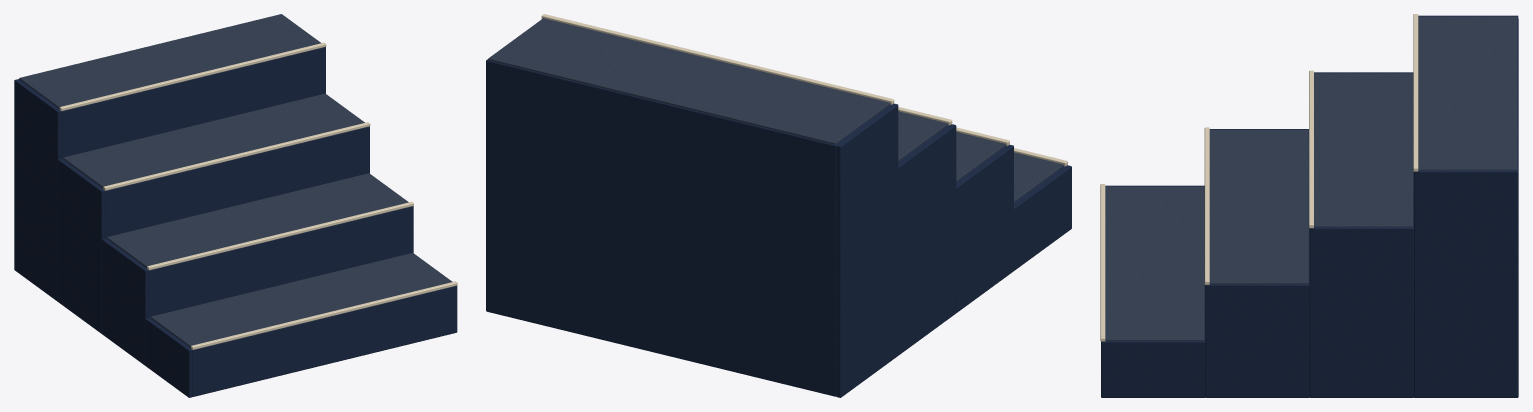
Rendered from 20_stage_stairs_left.glb.
The picture shows the model from 3 angles, left to right: view 1: azimuth 30°, elevation 25°; view 2: azimuth 150°, elevation 25°; view 3: azimuth 270°, elevation 25°; orthographic projection. The views are drawn at different scales.
Parts seen in each view (by area): view 1: 20_stage_stairs_left__solid_riser, 20_stage_stairs_left__solid_riser.001, 20_stage_stairs_left__solid_riser.002, 20_stage_stairs_left__solid_riser.003, 20_stage_stairs_left__carpet_tread, 20_stage_stairs_left__carpet_tread.002, 20_stage_stairs_left__carpet_tread.003, 20_stage_stairs_left__carpet_tread.001, 20_stage_stairs_left__outer_cheek.003, 20_stage_stairs_left__outer_cheek.002, 20_stage_stairs_left__outer_cheek.001, 20_stage_stairs_left__outer_cheek (+4 smaller); view 2: 20_stage_stairs_left__solid_riser.003, 20_stage_stairs_left__carpet_tread.003, 20_stage_stairs_left__outer_cheek.003, 20_stage_stairs_left__outer_cheek.002, 20_stage_stairs_left__outer_cheek.001, 20_stage_stairs_left__outer_cheek, 20_stage_stairs_left__step_nosing.003, 20_stage_stairs_left__carpet_tread.002, 20_stage_stairs_left__carpet_tread.001, 20_stage_stairs_left__carpet_tread; view 3: 20_stage_stairs_left__solid_riser.003, 20_stage_stairs_left__solid_riser.002, 20_stage_stairs_left__carpet_tread, 20_stage_stairs_left__carpet_tread.003, 20_stage_stairs_left__carpet_tread.001, 20_stage_stairs_left__carpet_tread.002, 20_stage_stairs_left__solid_riser.001, 20_stage_stairs_left__solid_riser, 20_stage_stairs_left__step_nosing, 20_stage_stairs_left__step_nosing.001, 20_stage_stairs_left__step_nosing.003, 20_stage_stairs_left__step_nosing.002.
Boxes of the visible parts, box(x1,y1,x2,y2) form: 20_stage_stairs_left__solid_riser: box(149, 285, 457, 396); 20_stage_stairs_left__solid_riser.001: box(105, 206, 413, 317); 20_stage_stairs_left__solid_riser.002: box(62, 126, 369, 238); 20_stage_stairs_left__solid_riser.003: box(18, 47, 325, 158); 20_stage_stairs_left__carpet_tread: box(150, 253, 452, 347); 20_stage_stairs_left__carpet_tread.002: box(63, 93, 364, 187); 20_stage_stairs_left__carpet_tread.003: box(19, 14, 321, 108); 20_stage_stairs_left__carpet_tread.001: box(107, 173, 408, 267); 20_stage_stairs_left__outer_cheek.003: box(14, 79, 61, 301); 20_stage_stairs_left__outer_cheek.002: box(58, 159, 104, 333); 20_stage_stairs_left__outer_cheek.001: box(101, 238, 148, 365); 20_stage_stairs_left__outer_cheek: box(145, 318, 192, 397); 20_stage_stairs_left__solid_riser.003: box(486, 59, 891, 396); 20_stage_stairs_left__carpet_tread.003: box(488, 18, 890, 144); 20_stage_stairs_left__outer_cheek.003: box(836, 103, 898, 397); 20_stage_stairs_left__outer_cheek.002: box(898, 124, 956, 355); 20_stage_stairs_left__outer_cheek.001: box(956, 145, 1013, 312); 20_stage_stairs_left__outer_cheek: box(1014, 165, 1071, 270); 20_stage_stairs_left__step_nosing.003: box(541, 14, 894, 104); 20_stage_stairs_left__carpet_tread.002: box(898, 111, 948, 161); 20_stage_stairs_left__carpet_tread.001: box(956, 132, 1005, 181); 20_stage_stairs_left__carpet_tread: box(1014, 152, 1063, 202); 20_stage_stairs_left__solid_riser.003: box(1414, 17, 1518, 397); 20_stage_stairs_left__solid_riser.002: box(1309, 74, 1413, 397); 20_stage_stairs_left__carpet_tread: box(1105, 186, 1204, 340); 20_stage_stairs_left__carpet_tread.003: box(1418, 16, 1517, 170); 20_stage_stairs_left__carpet_tread.001: box(1209, 130, 1308, 284); 20_stage_stairs_left__carpet_tread.002: box(1314, 73, 1412, 227); 20_stage_stairs_left__solid_riser.001: box(1205, 131, 1309, 397); 20_stage_stairs_left__solid_riser: box(1101, 188, 1205, 397); 20_stage_stairs_left__step_nosing: box(1100, 184, 1105, 341); 20_stage_stairs_left__step_nosing.001: box(1204, 127, 1209, 284); 20_stage_stairs_left__step_nosing.003: box(1413, 14, 1418, 171); 20_stage_stairs_left__step_nosing.002: box(1309, 70, 1313, 228).
Bounding box in the file's own units: 1.06 × 0.731 × 1.2.
3 materials, 3 textured.
